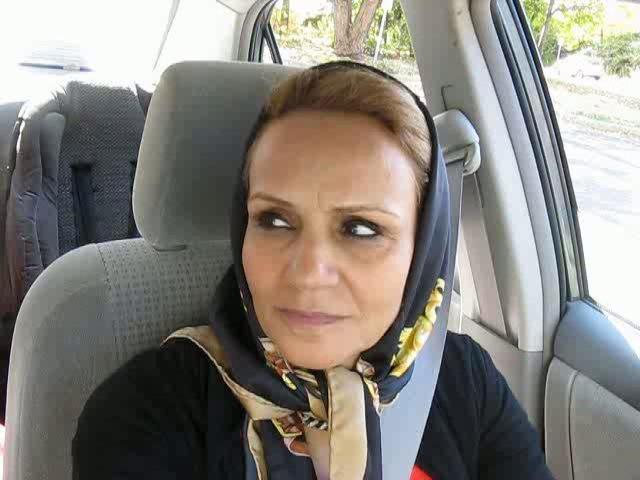eye_open: (334, 212, 391, 248), (252, 204, 298, 237)
face: (238, 172, 417, 371)
